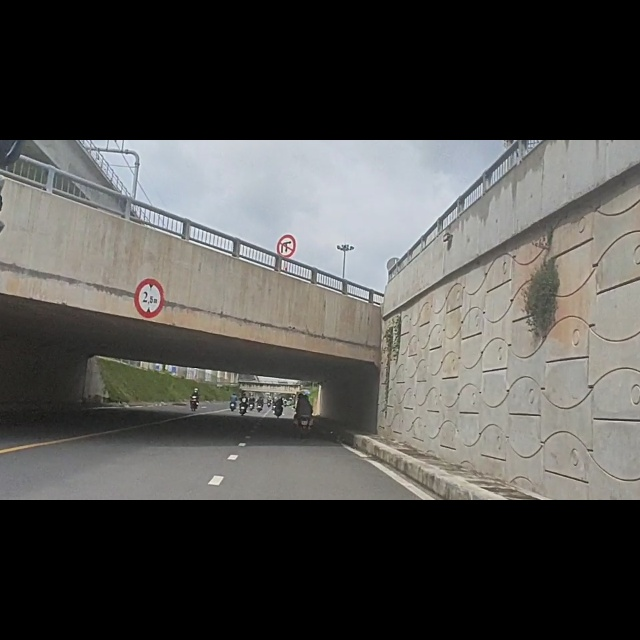bien_cam: (133, 245, 165, 318), (276, 167, 297, 210)
